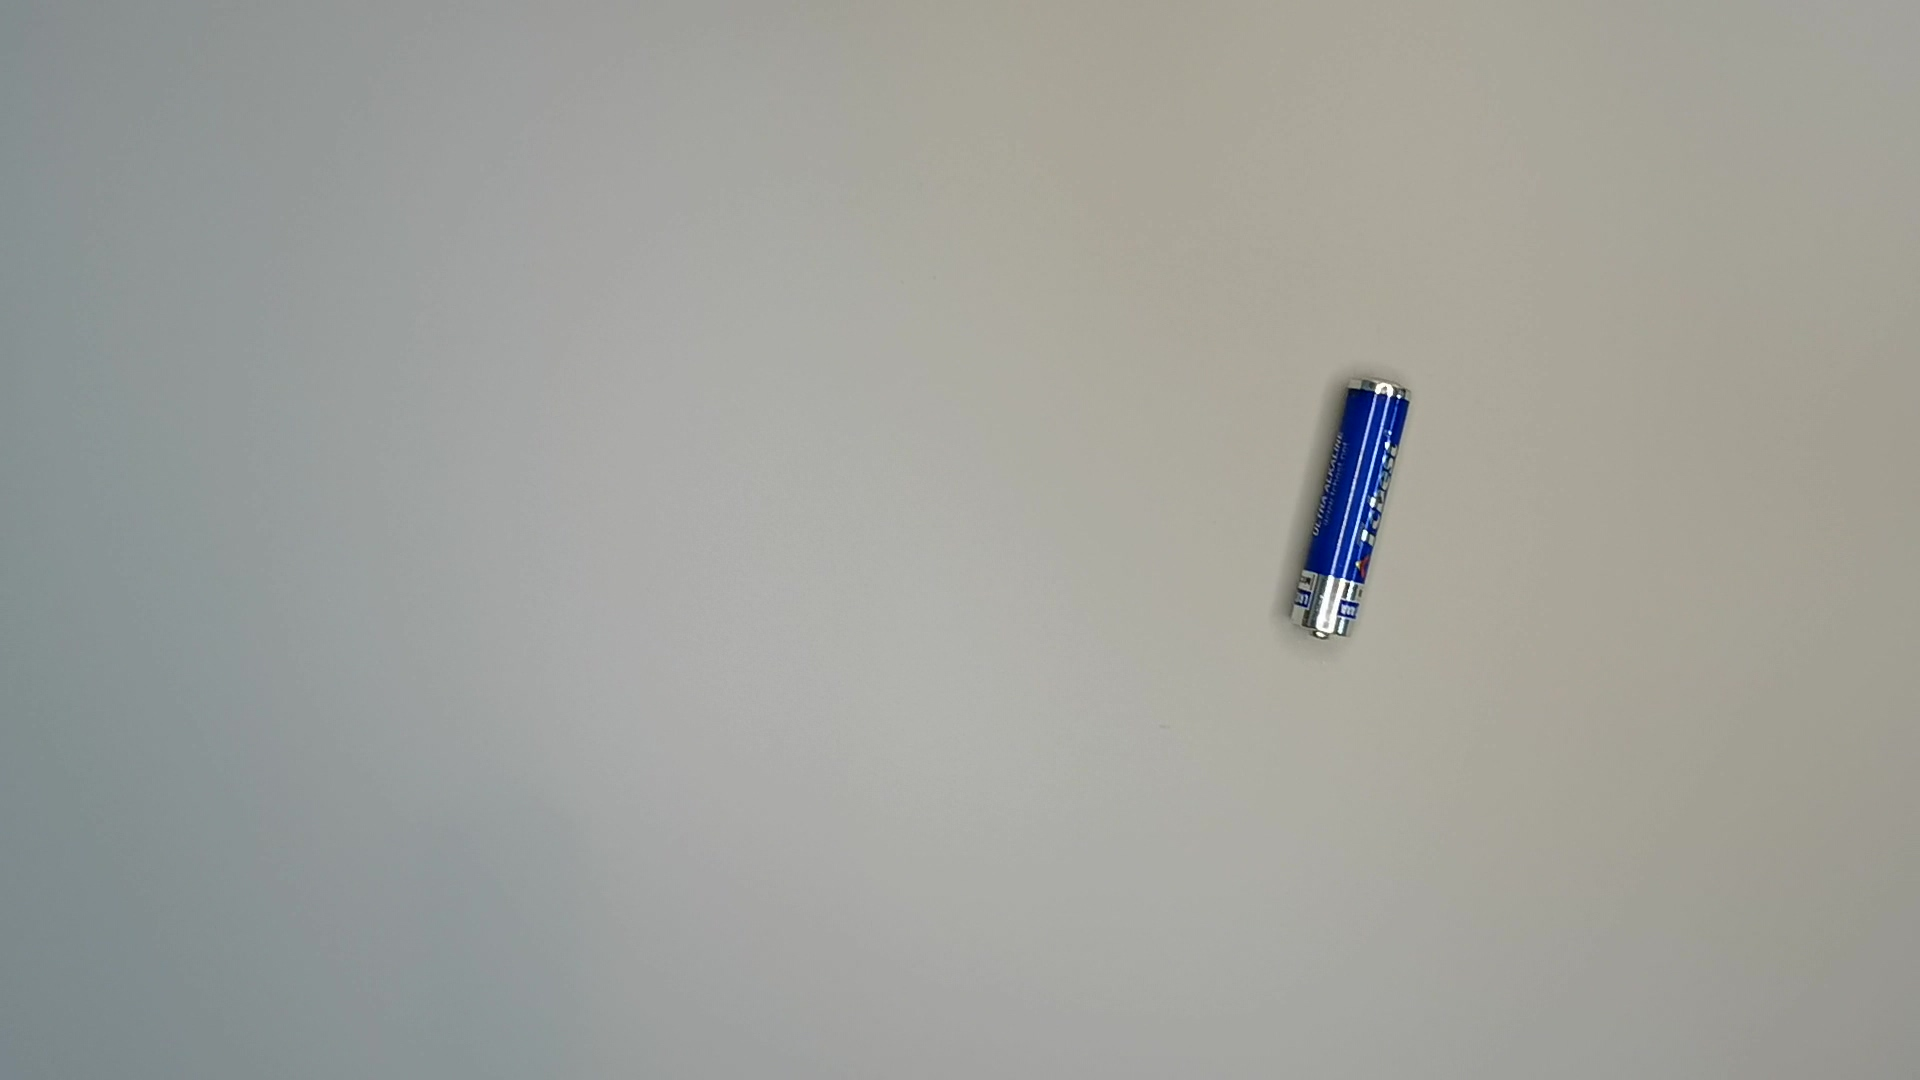battery: (1280, 371, 1422, 647)
